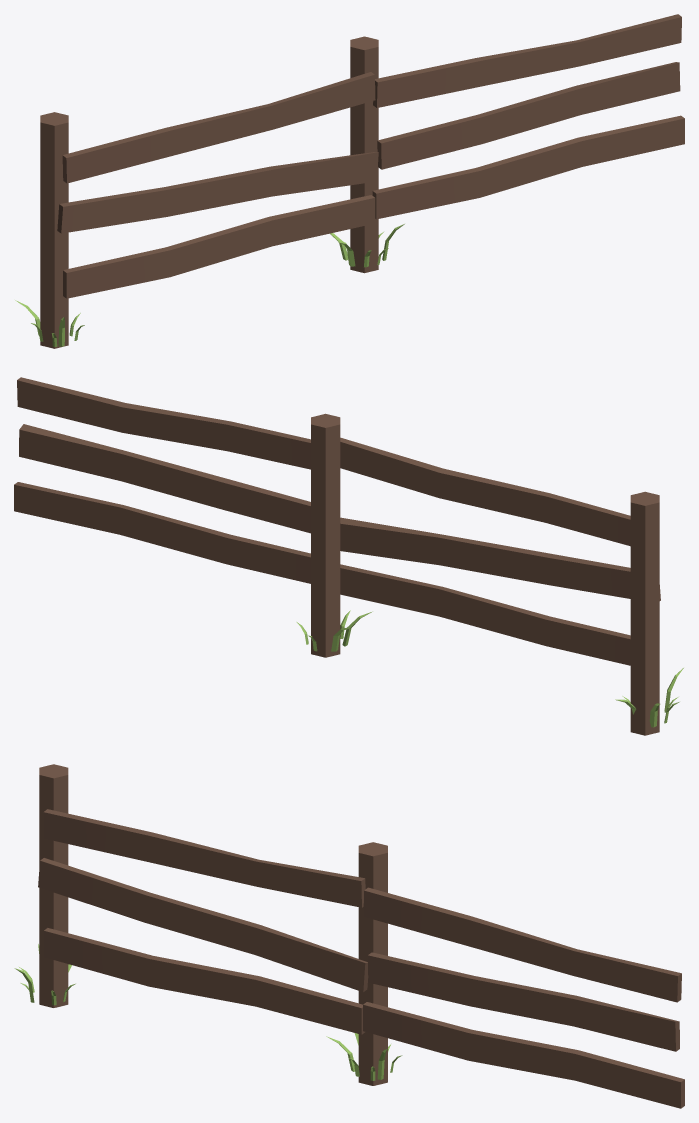
File: fence.fbx
3 views of the same model, one above another, from view 1: azimuth 30°, elevation 25°; view 2: azimuth 150°, elevation 25°; view 3: azimuth 330°, elevation 25° (orthographic). The views are drawn at different scales.
Visible parts, largest first — view 1: Fence1; view 2: Fence1; view 3: Fence1.
Part boxes in pixels (left/top/right/bottom): Fence1: left=15, top=14, right=684, bottom=348; Fence1: left=14, top=377, right=683, bottom=735; Fence1: left=14, top=764, right=684, bottom=1108.
Size of the model in its own units: 21.74 by 7.13 by 2.54.
